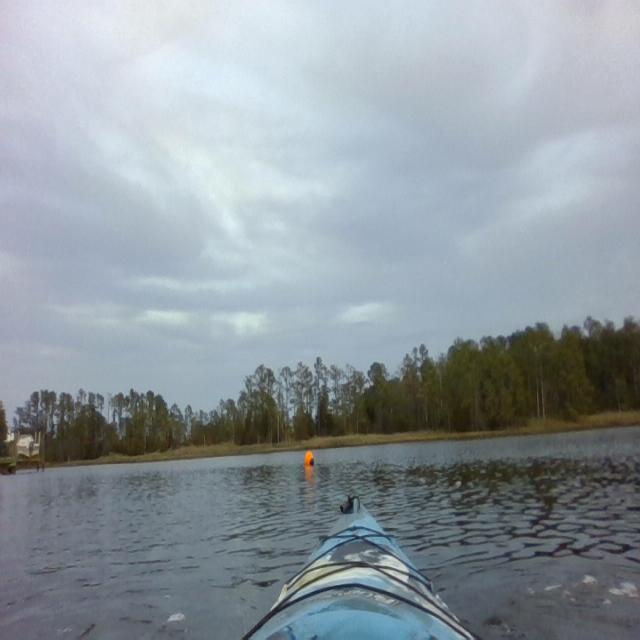Buoy: (304, 450, 316, 470)
